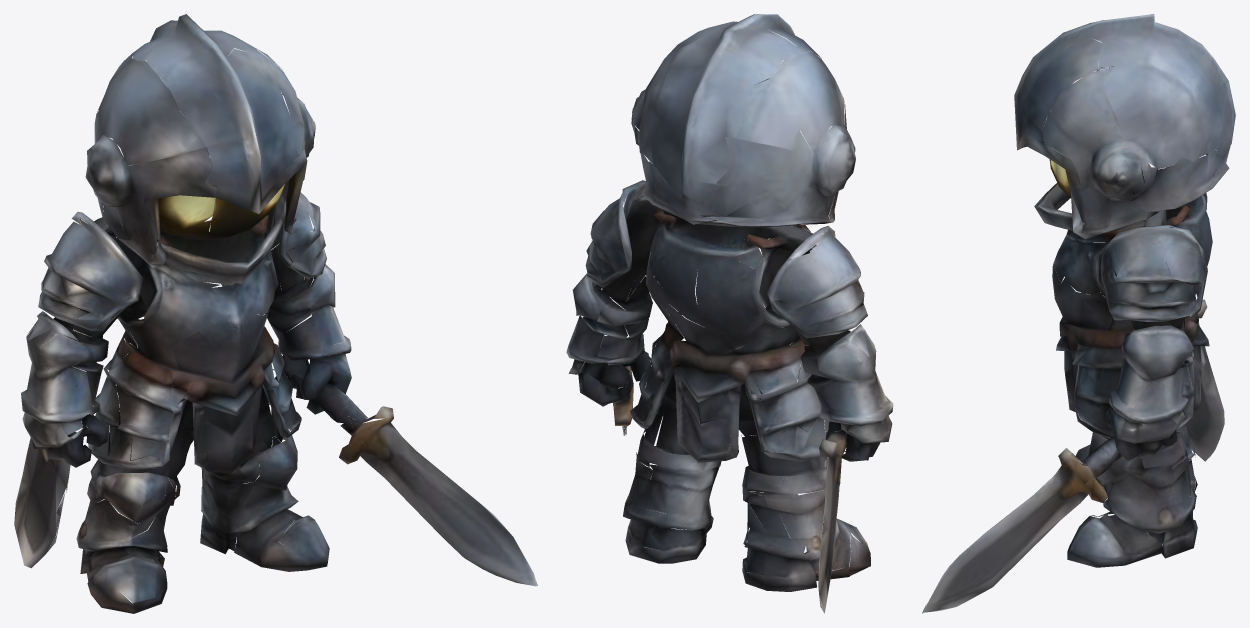
File: mob_knight.glb
The picture shows the model from 3 angles, left to right: view 1: azimuth 30°, elevation 25°; view 2: azimuth 150°, elevation 25°; view 3: azimuth 270°, elevation 25°; orthographic projection. The views are drawn at different scales.
Parts seen in each view (by area): view 1: tripo_node_512ac78a-0860-47b2-99b2-435d1bb1fa0c; view 2: tripo_node_512ac78a-0860-47b2-99b2-435d1bb1fa0c; view 3: tripo_node_512ac78a-0860-47b2-99b2-435d1bb1fa0c.
Part boxes in pixels (bbox=[...]): tripo_node_512ac78a-0860-47b2-99b2-435d1bb1fa0c: bbox=[14, 14, 537, 613]; tripo_node_512ac78a-0860-47b2-99b2-435d1bb1fa0c: bbox=[566, 14, 893, 613]; tripo_node_512ac78a-0860-47b2-99b2-435d1bb1fa0c: bbox=[922, 14, 1235, 613].
Bounding box in the file's own units: 0.7516 × 1 × 0.5672.
Materials: 1 (1 with a texture image).
